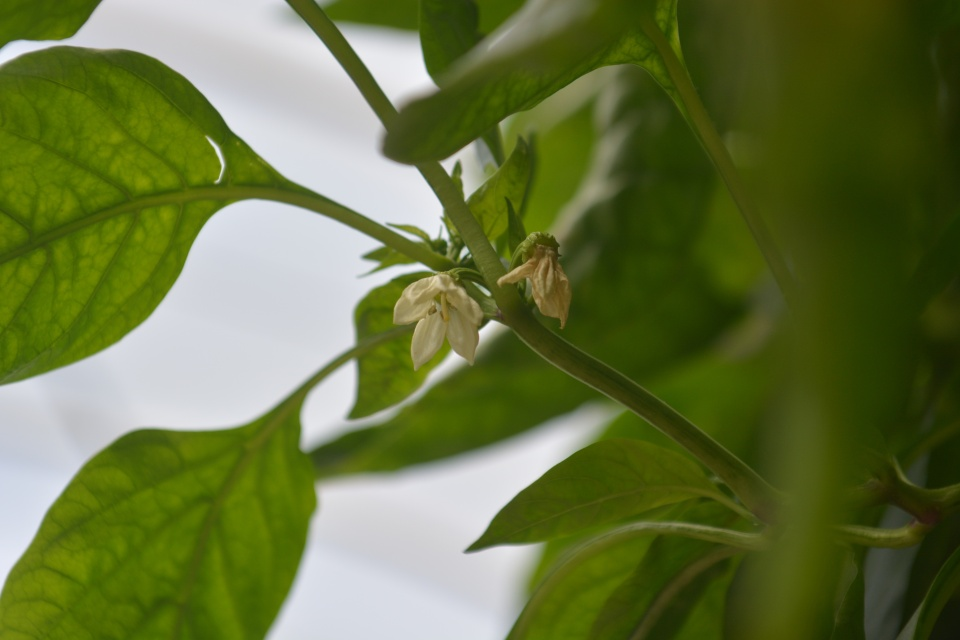flower: (389, 271, 485, 373)
